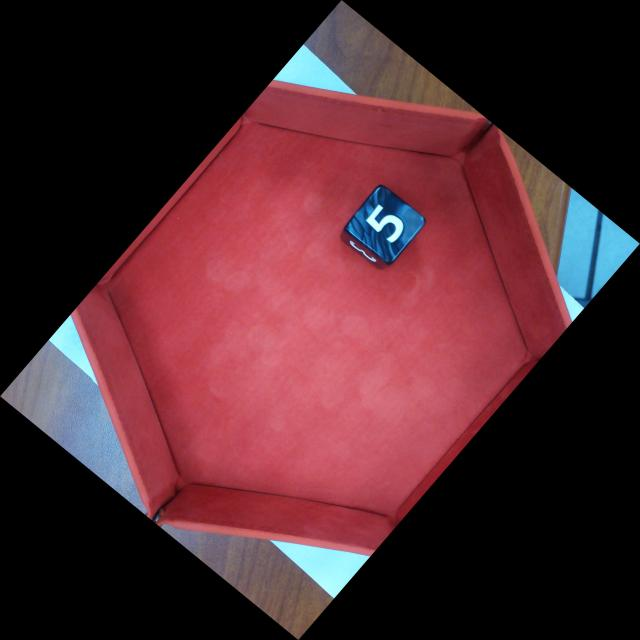dice: (344, 184, 429, 266)
